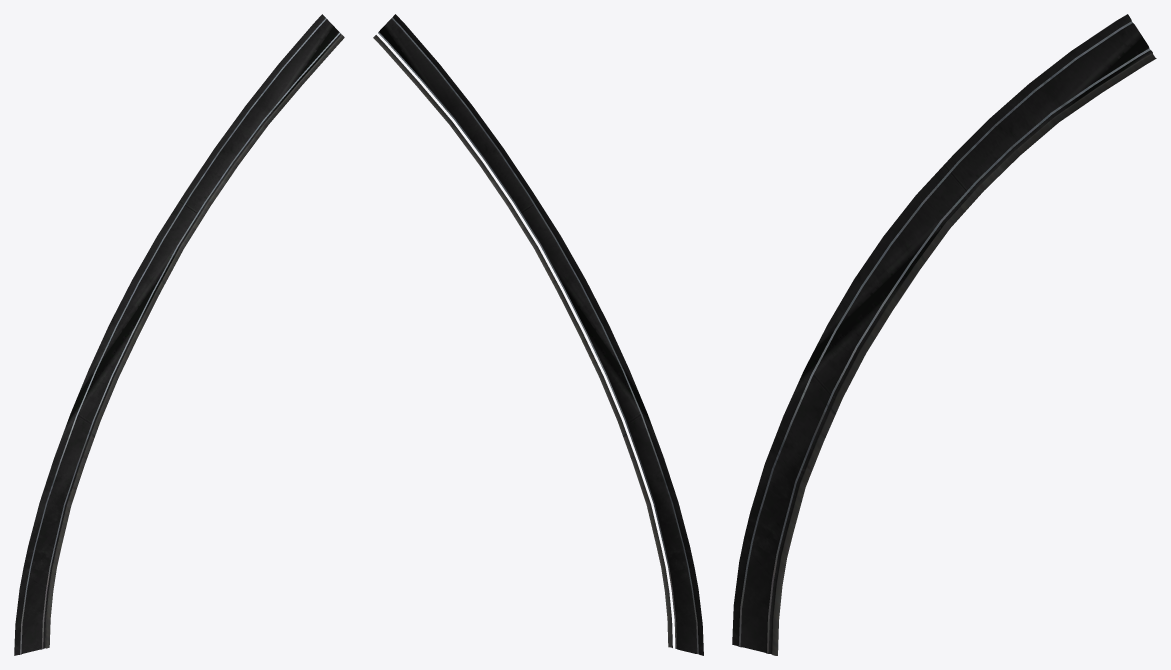
Rendered from p6_express_train_track_b01_LOD2.obj.
3 views of the same model, side by side, from view 1: azimuth 30°, elevation 25°; view 2: azimuth 150°, elevation 25°; view 3: azimuth 330°, elevation 25° (orthographic). The views are drawn at different scales.
Visible parts, largest first — view 1: metal_aircraft_catapult_strip, dub_concrete_wall_01_trim_clean, railroadtrack_top; view 2: metal_aircraft_catapult_strip, dub_concrete_wall_01_trim_clean, railroadtrack_top; view 3: metal_aircraft_catapult_strip, dub_concrete_wall_01_trim_clean, railroadtrack_top.
Boxes of the visible parts, x1,y1,x2,y2 form: metal_aircraft_catapult_strip: [14, 14, 341, 655]; dub_concrete_wall_01_trim_clean: [45, 35, 344, 648]; railroadtrack_top: [20, 18, 340, 654]; metal_aircraft_catapult_strip: [379, 14, 703, 655]; dub_concrete_wall_01_trim_clean: [373, 35, 672, 647]; railroadtrack_top: [378, 17, 698, 654]; metal_aircraft_catapult_strip: [732, 14, 1152, 654]; dub_concrete_wall_01_trim_clean: [772, 52, 1156, 655]; railroadtrack_top: [738, 21, 1150, 653].
Size of the model in its own units: 4191 by 6861 by 12.88.
